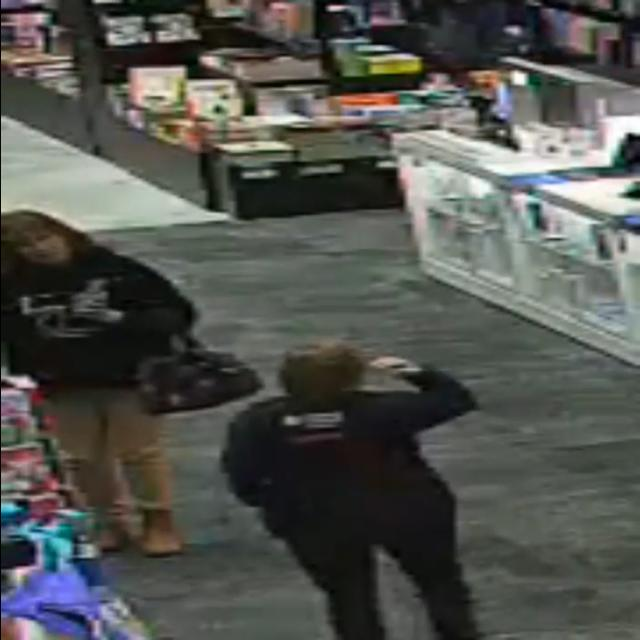bags: (140, 338, 263, 414)
hands: (74, 306, 124, 325), (370, 357, 421, 375)
person: (222, 342, 480, 639), (1, 211, 194, 555)
